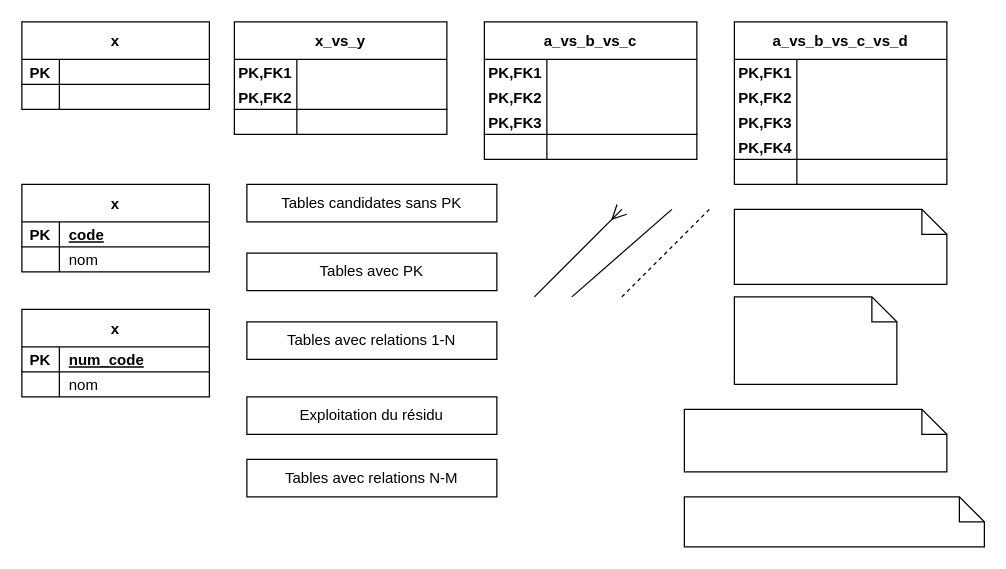
The diagram is 1006 pixels wide and 569 high, and some of its shapes have lost their labels. The centre of each missing label's shape, as x and y in pixels:
"Dépendances fonctionnelles à vérifier: →" belongs at point (833, 521).
"Note" belongs at point (840, 246).
"Orphelin(s): -" belongs at point (815, 340).
"Résidu (PK des ilots + orphelins): -" belongs at point (815, 440).
